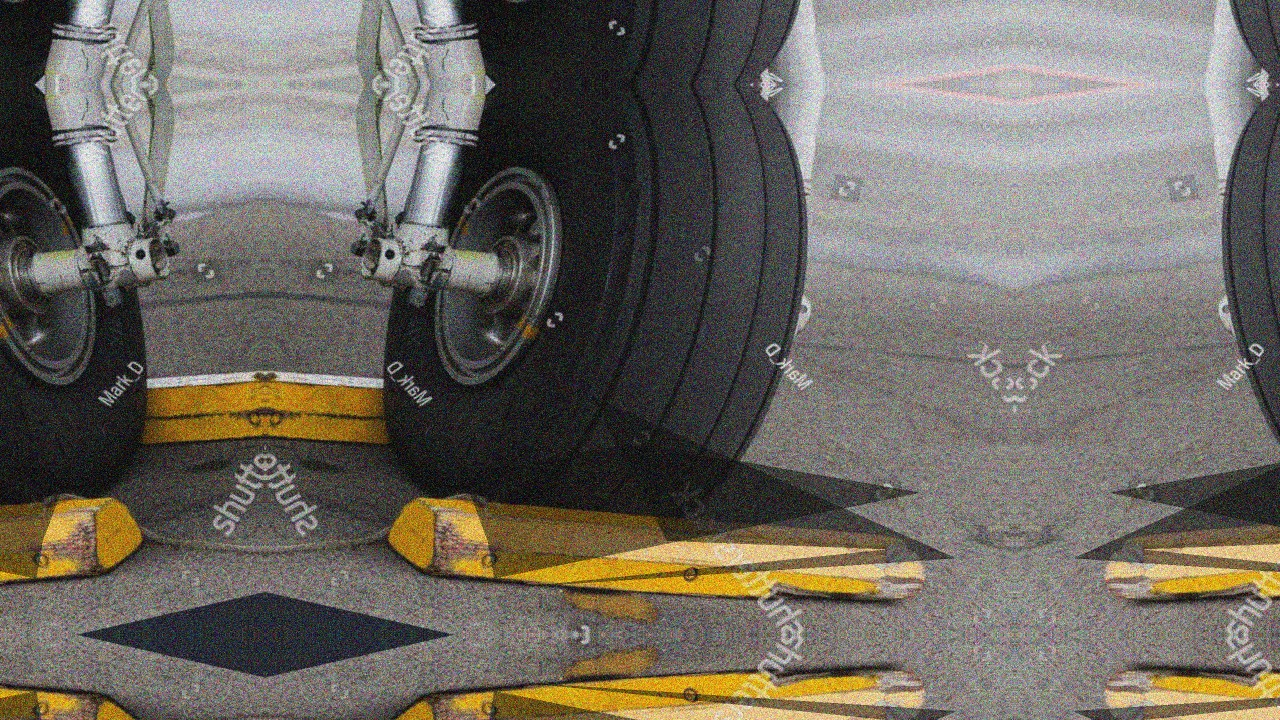chock: (357, 426, 943, 635), (265, 335, 565, 503), (357, 635, 943, 720), (0, 335, 265, 503), (1087, 426, 1280, 635), (0, 426, 173, 635), (1087, 635, 1280, 720), (0, 635, 173, 720)
wheel: (337, 84, 875, 567), (0, 84, 193, 567), (1155, 84, 1280, 567), (337, 0, 875, 85)
